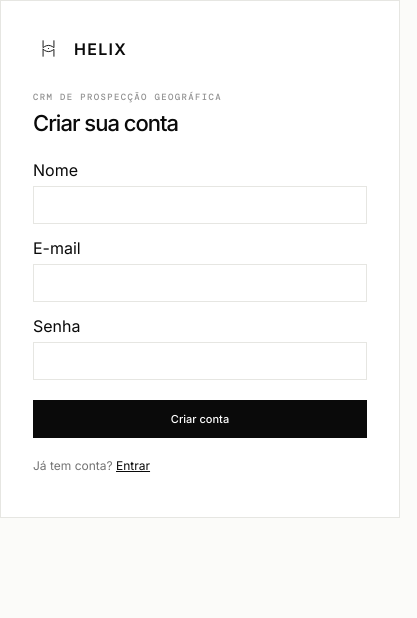
AuthForm › criar conta pede nome e mostra o erro traduzido
Type "Ana" into the field labelled "Nome" at {"x": 200, "y": 205}, box [33,186,367,224]
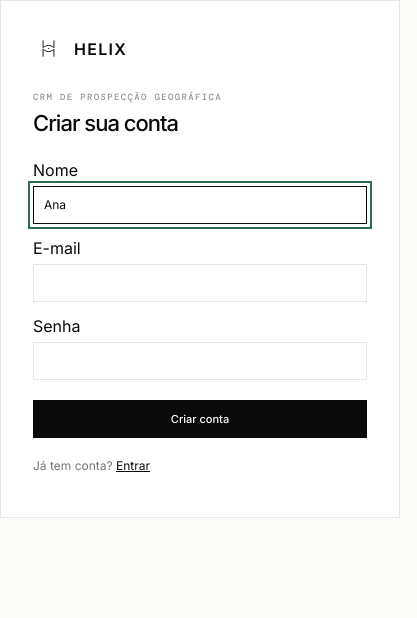
Type "ana@teste.dev" into the field labelled "E-mail" at {"x": 200, "y": 283}, box [33,264,367,302]
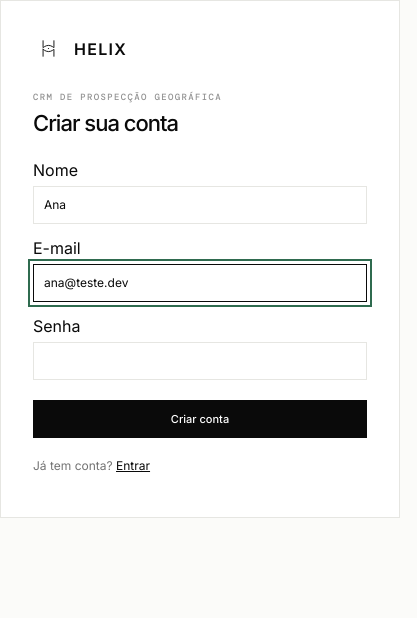
Type "senha-segura-1" into the password field labelled "Senha" at {"x": 200, "y": 361}, box [33,342,367,380]
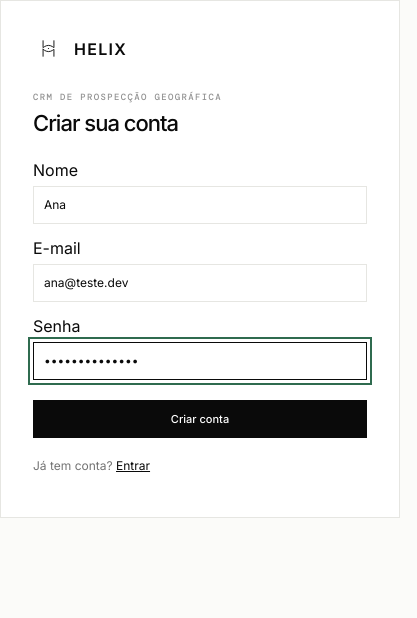
Click the button "Criar conta" at {"x": 200, "y": 419}, box [33,400,367,438]
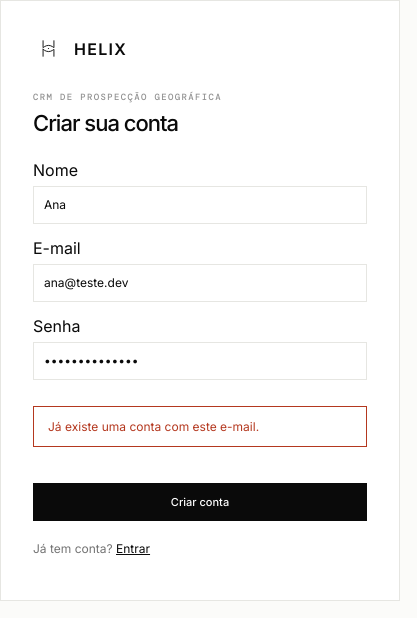
Expected: the message reads "Já existe uma conta com este e-mail.", [48,419,259,434]
